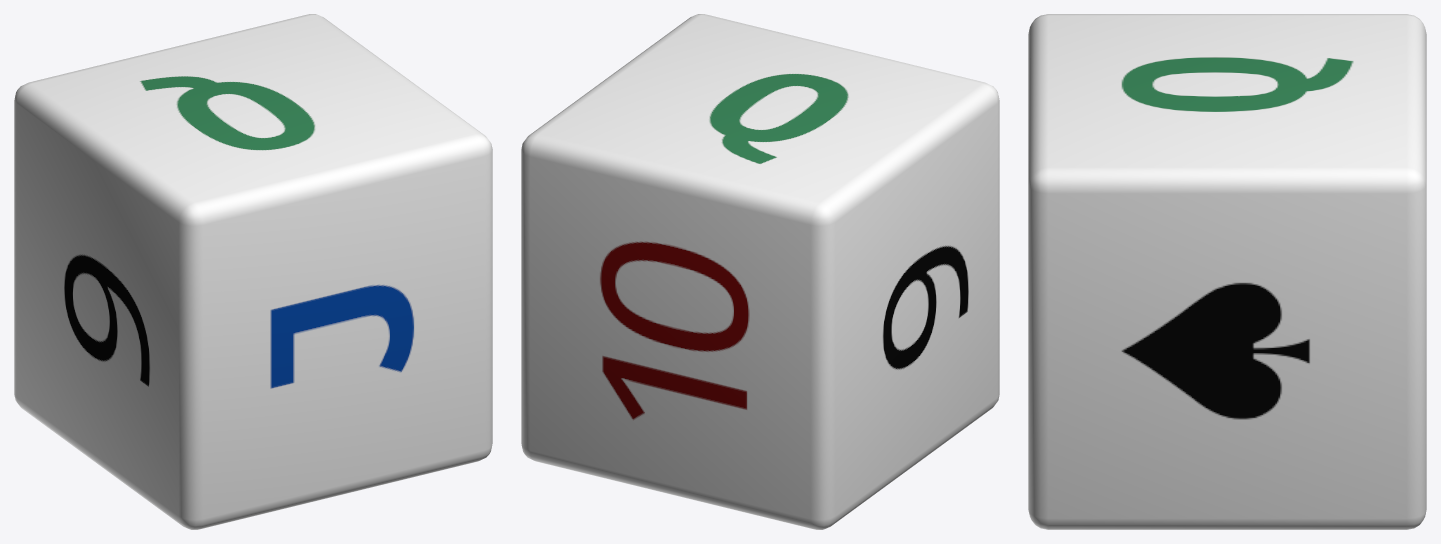
Rendered from dice.glb.
3 views of the same model, side by side, from view 1: azimuth 30°, elevation 25°; view 2: azimuth 150°, elevation 25°; view 3: azimuth 270°, elevation 25° (orthographic). The views are drawn at different scales.
Visible parts, largest first — view 1: Cube; view 2: Cube; view 3: Cube.
Part boxes in pixels (box(x1,y1,x2,y2)): Cube: box(14, 14, 492, 529); Cube: box(521, 14, 999, 529); Cube: box(1028, 14, 1426, 529).
Size of the model in its own units: 2 by 2 by 2.
Materials: 1 (1 with a texture image).
